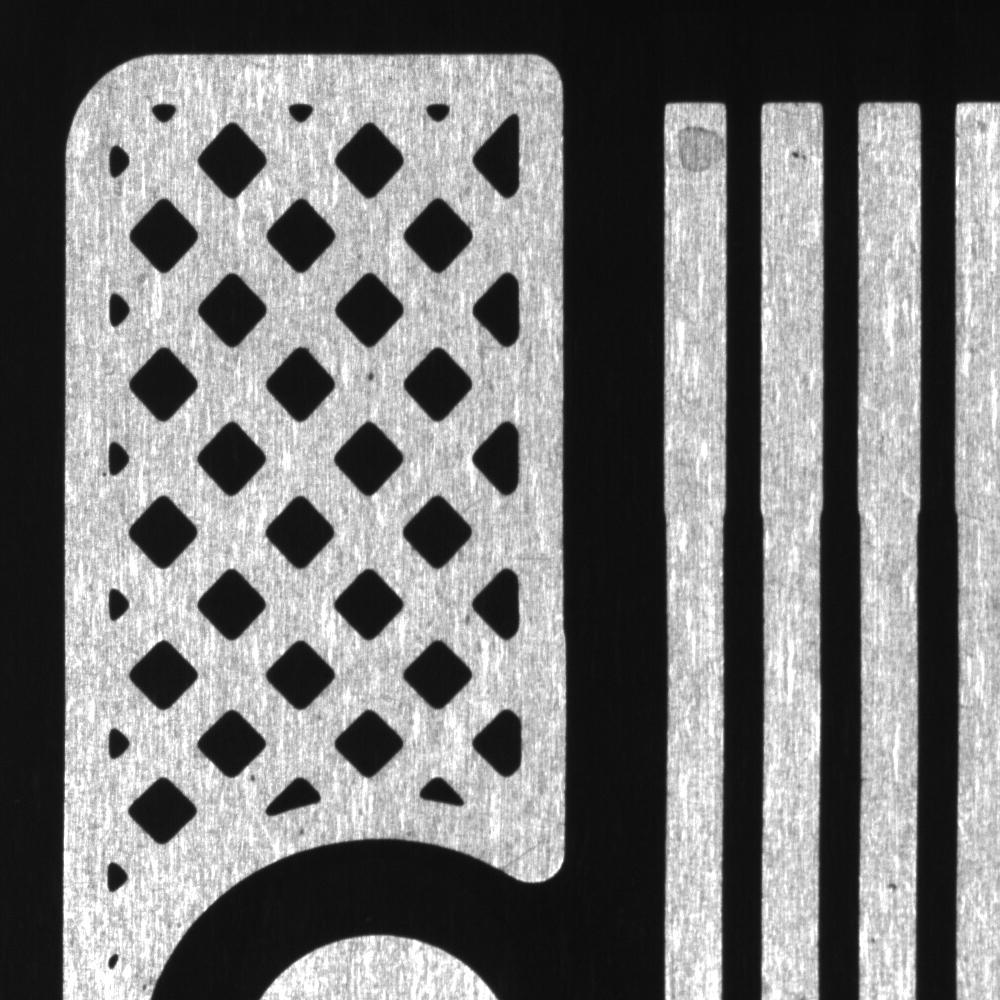Discolor: (667, 112, 727, 202)
Etching: (779, 136, 820, 182), (874, 861, 903, 909)
Scar: (492, 813, 562, 884)
